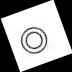t12: (15, 23, 50, 57)
